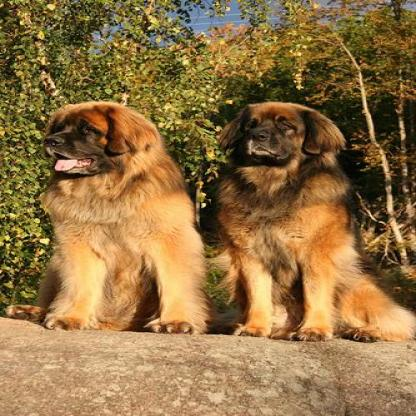Leonberg: (208, 99, 413, 341), (30, 97, 207, 334)
